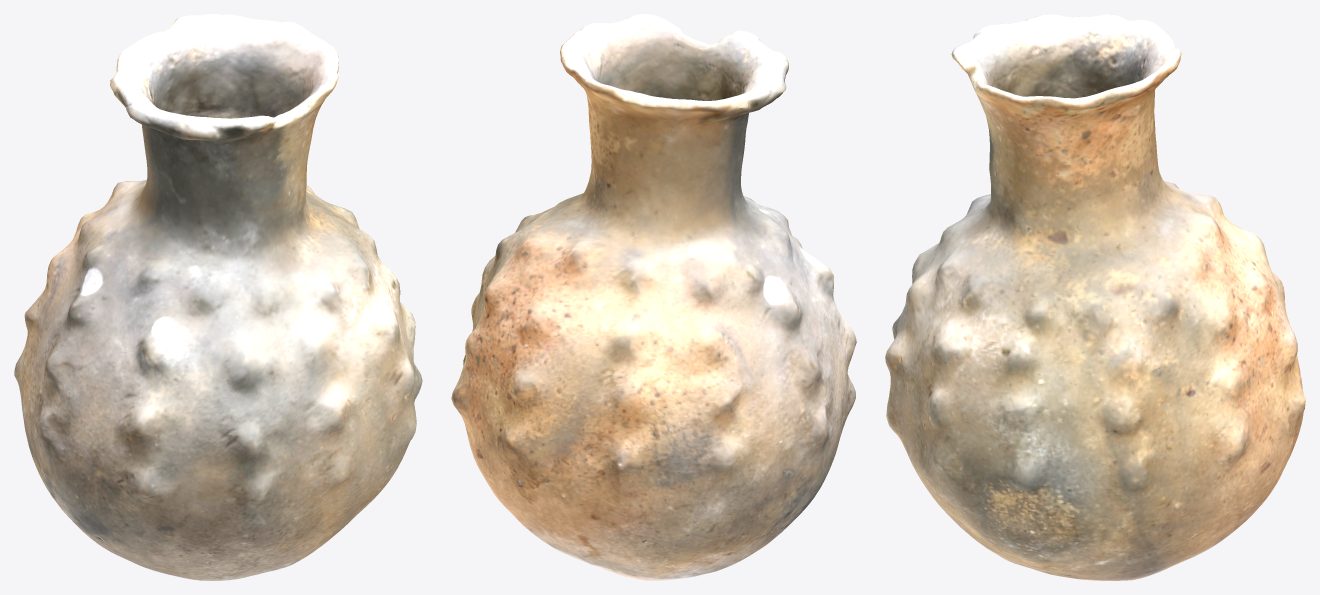
The model's file is cantaro.glb.
3 renders of one model, left to right at view 1: azimuth 30°, elevation 25°; view 2: azimuth 150°, elevation 25°; view 3: azimuth 270°, elevation 25°, orthographic. The views are drawn at different scales.
Size of the model in its own units: 1.48 by 2.06 by 1.51.
